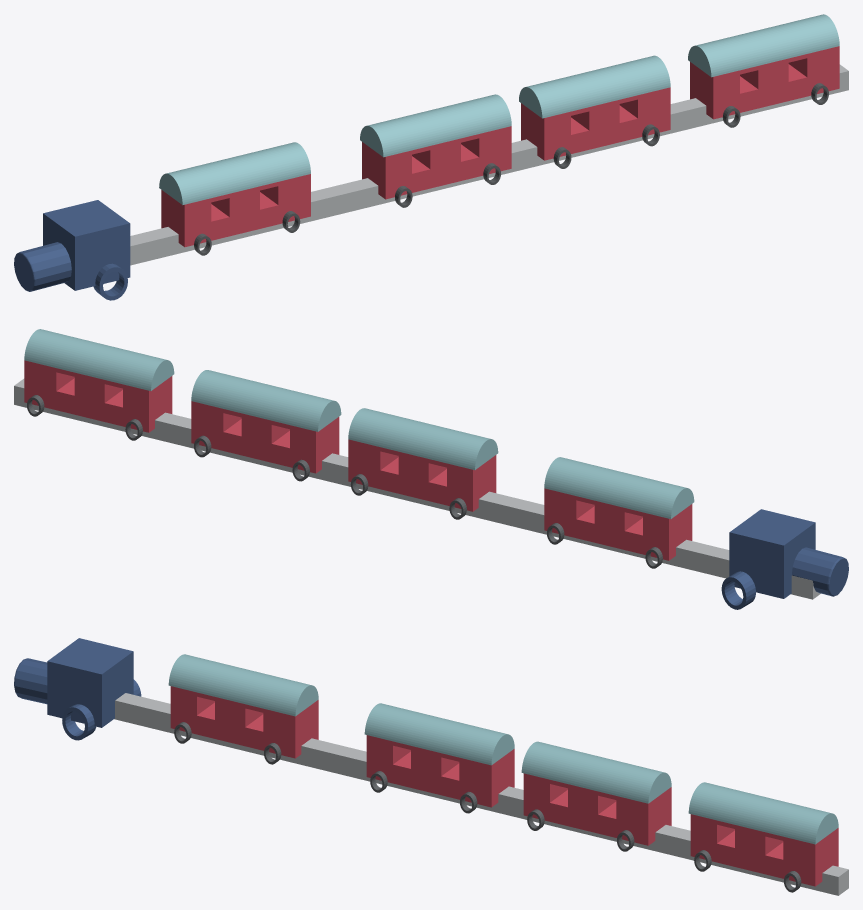
File: Funky Esboo.glb
3 renders of one model, top to bottom at view 1: azimuth 30°, elevation 25°; view 2: azimuth 150°, elevation 25°; view 3: azimuth 330°, elevation 25°, orthographic.
Visible parts, largest first — view 1: Mesh_Mesh_head_geo.001_lambert2SG.001; view 2: Mesh_Mesh_head_geo.001_lambert2SG.001; view 3: Mesh_Mesh_head_geo.001_lambert2SG.001.
Part boxes in pixels (x1,y1,x2,y2): Mesh_Mesh_head_geo.001_lambert2SG.001: (14, 14, 848, 300); Mesh_Mesh_head_geo.001_lambert2SG.001: (14, 329, 848, 609); Mesh_Mesh_head_geo.001_lambert2SG.001: (14, 638, 848, 895).
Bounding box in the file's own units: 406 × 41 × 41.
